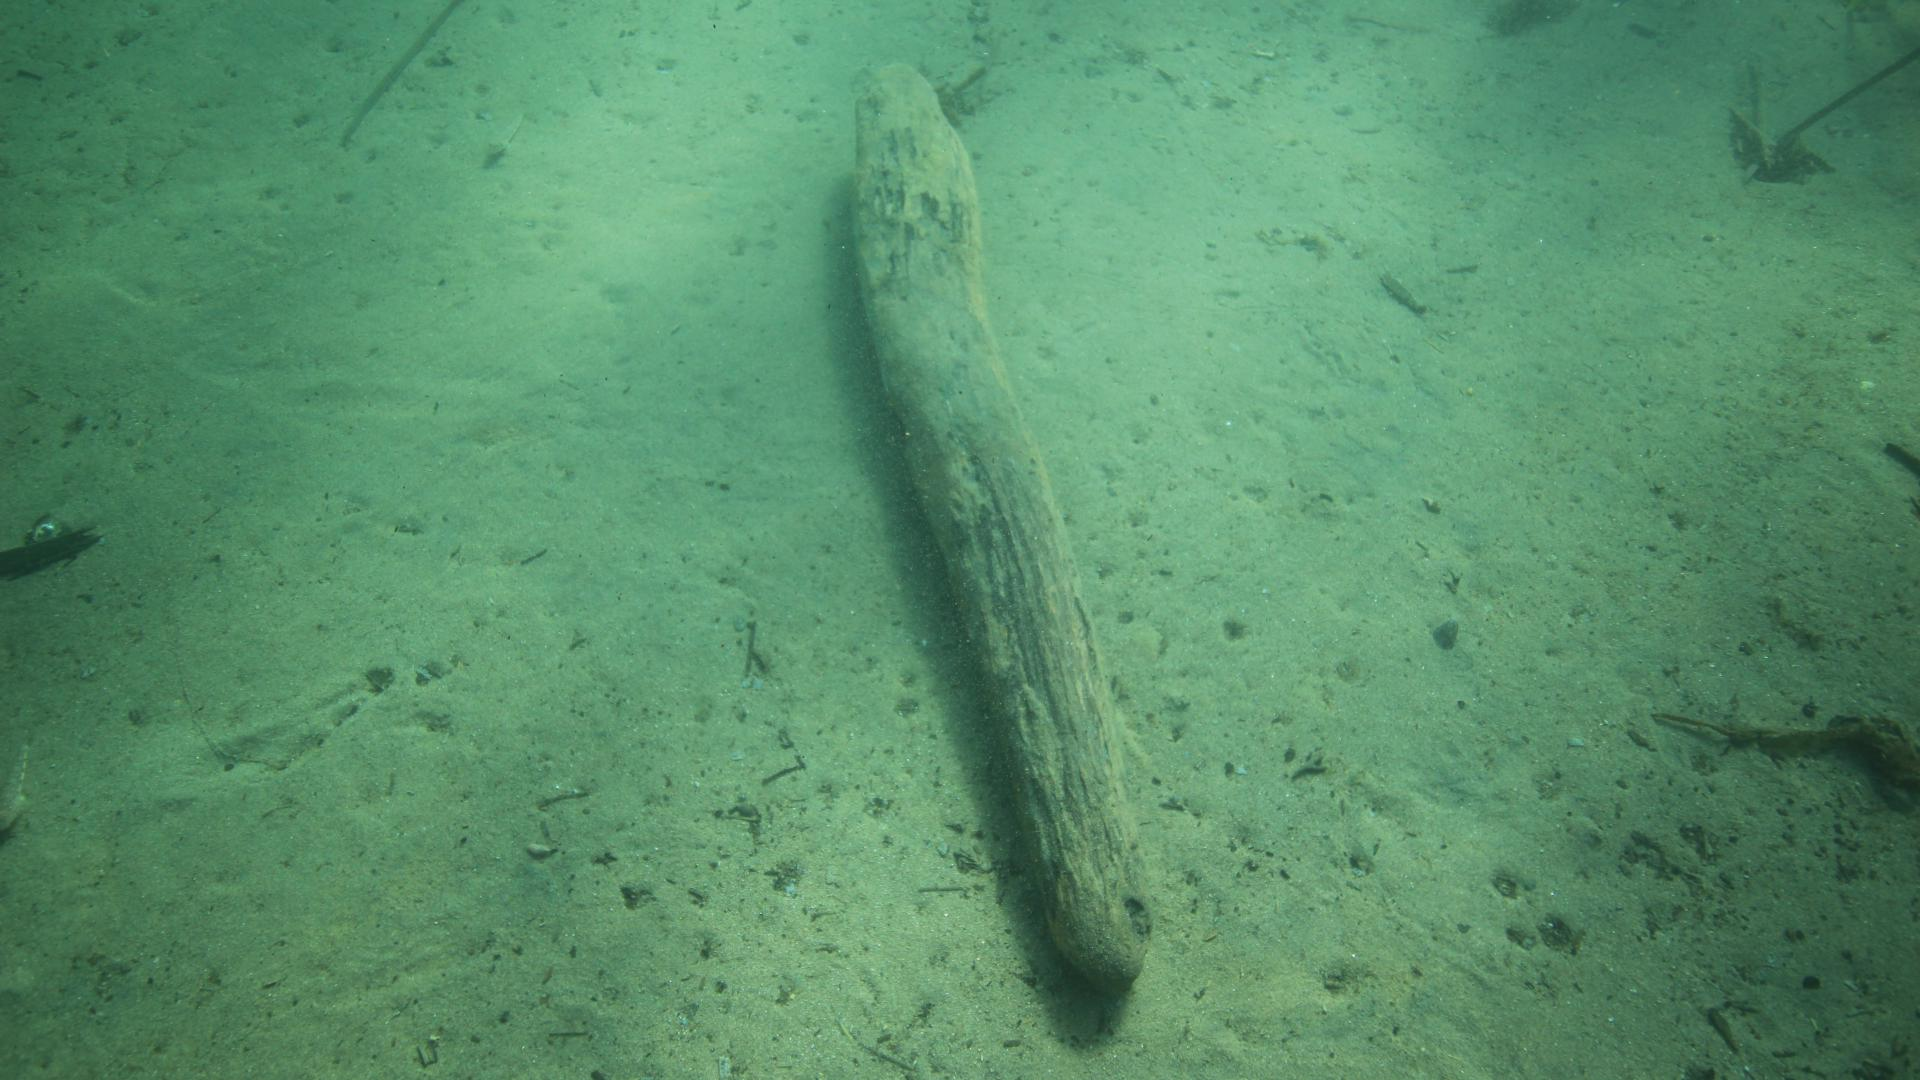wood: (847, 61, 1155, 990)
